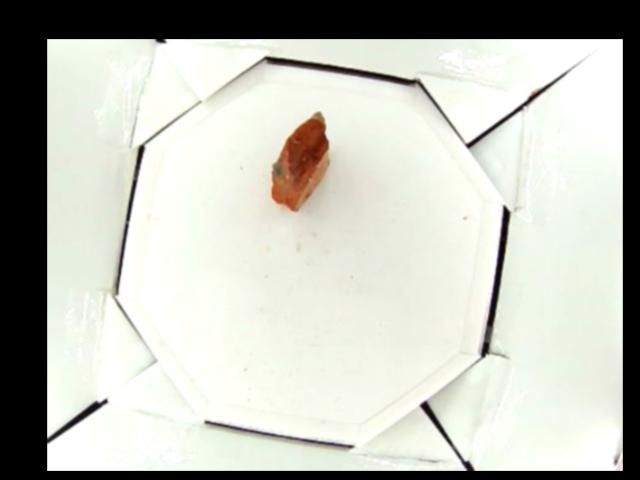Brisk: (272, 112, 327, 210)
